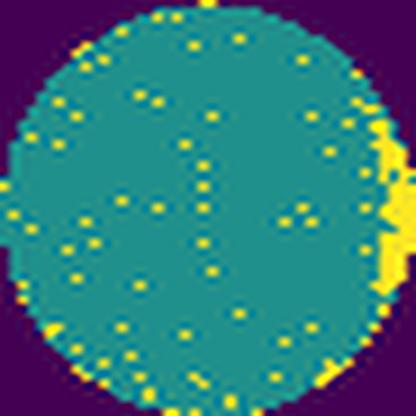Edge-Loc: (365, 115, 416, 302)
